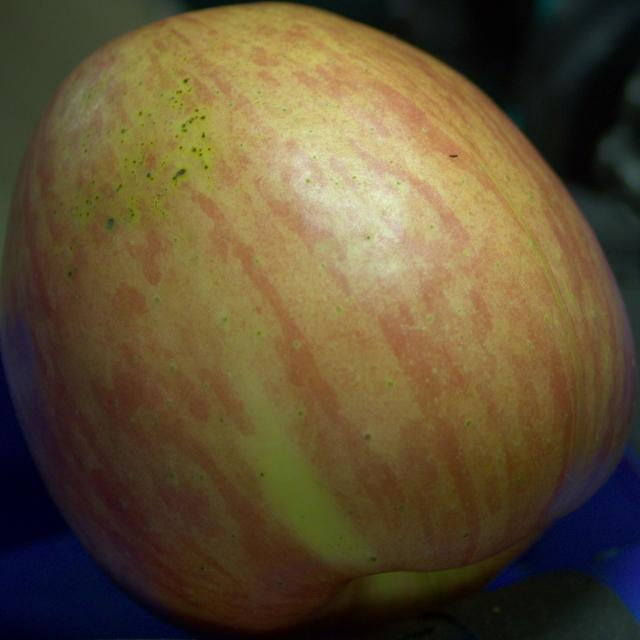apple: (0, 4, 638, 634)
pest: (107, 218, 114, 228), (176, 169, 186, 176)
